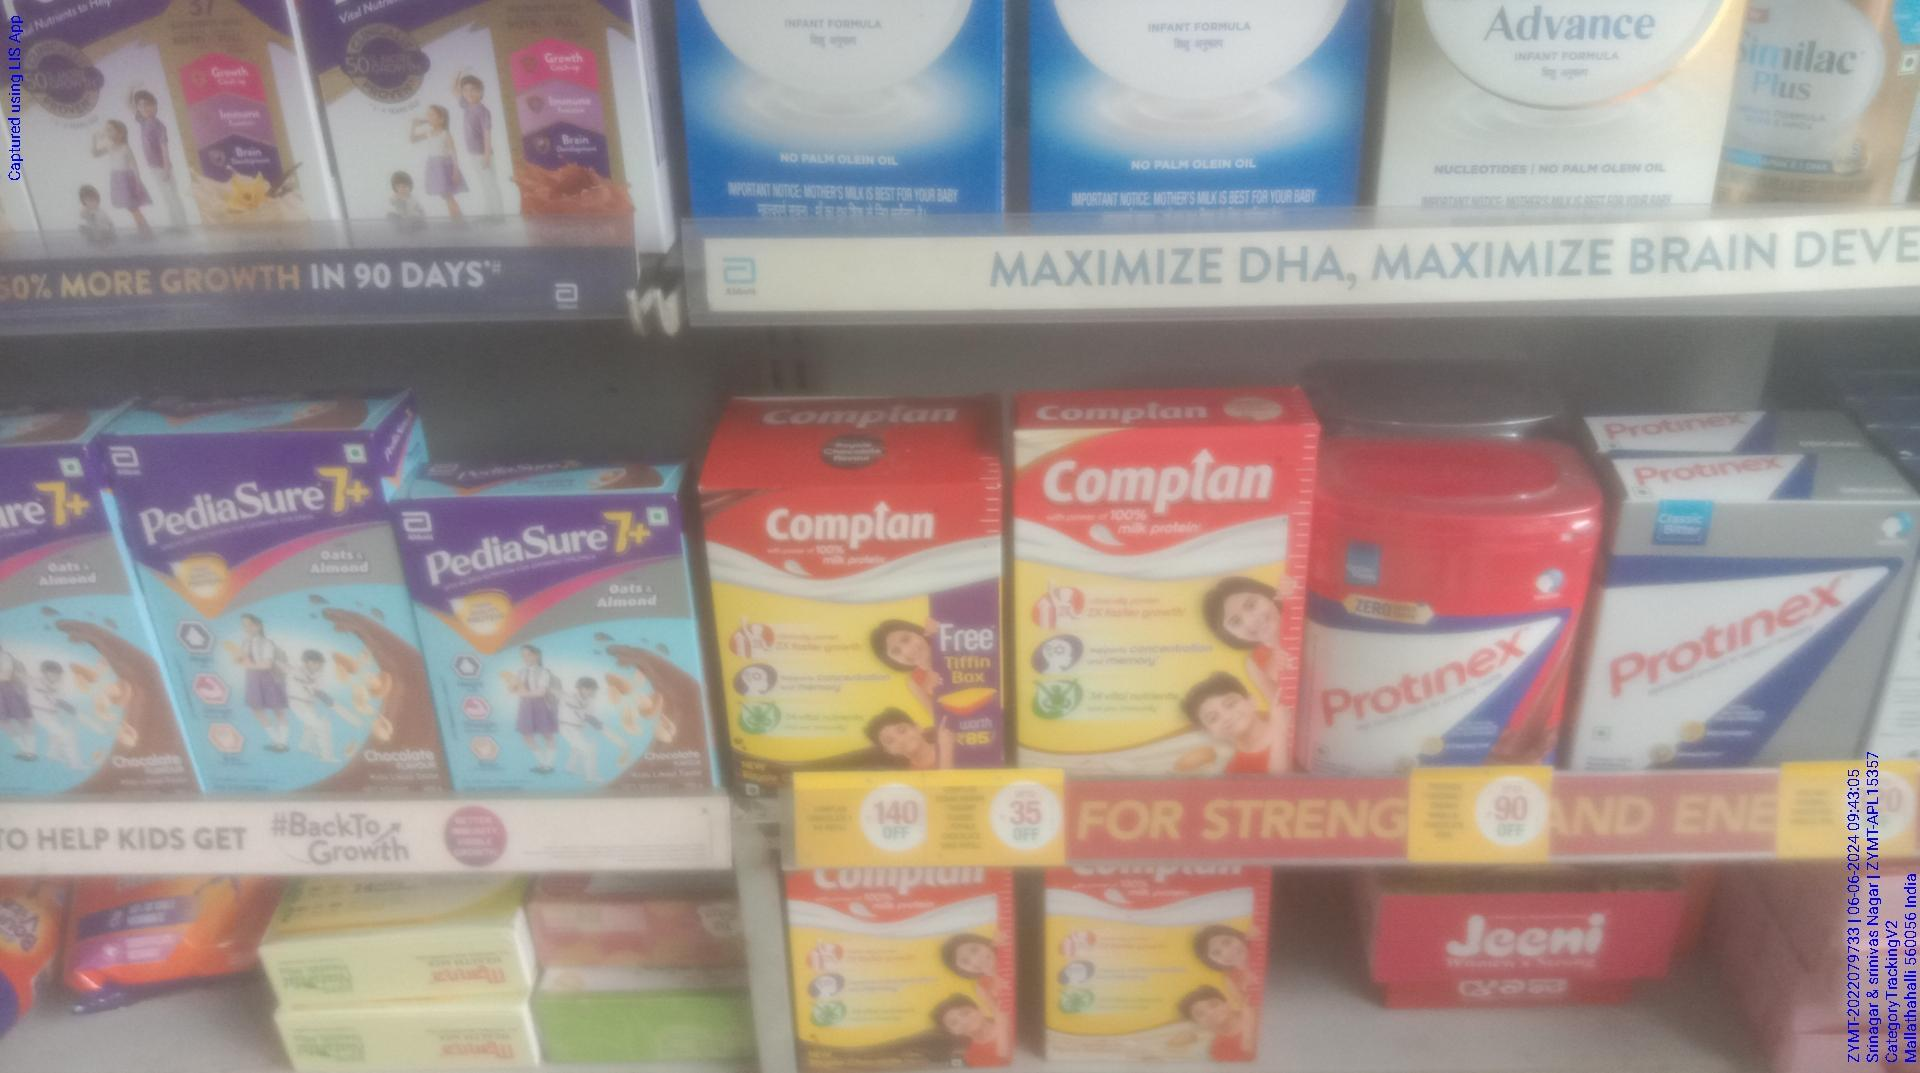COMPLAN_CHOCOLATE_200_GMS_PACK: (790, 863, 1025, 1073)
COMPLAN_CHOCOLATE_500_GMS_PACK: (717, 492, 1005, 770)
COMPLAN_KESAR_BADAM_200_GMS_PACK: (1044, 862, 1265, 1073)
COMPLAN_KESAR_BADAM_500_GMS_PACK: (1018, 426, 1308, 776)
PEDIASURE_7_PLUS_CHOCOLATE_400_G_PACK: (429, 507, 708, 797)
PROTINEX_CHOCOLATE_400_G_JAR: (1315, 435, 1568, 775)
